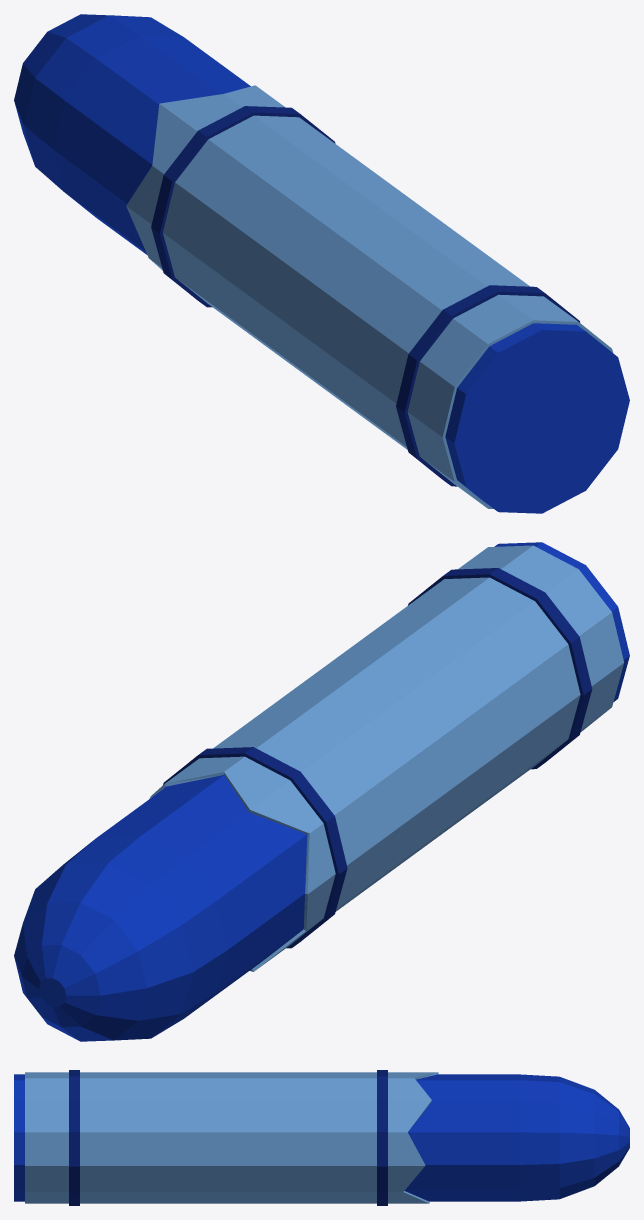
The model's file is crayon.fbx.
3 renders of one model, top to bottom at view 1: azimuth 30°, elevation 25°; view 2: azimuth 150°, elevation 25°; view 3: azimuth 270°, elevation 25°, orthographic. The views are drawn at different scales.
Visible parts, largest first — view 1: crayon; view 2: crayon; view 3: crayon.
Part boxes in pixels (box(x1,y1,x2,y2)): crayon: box(14, 14, 629, 513); crayon: box(14, 542, 629, 1041); crayon: box(14, 1070, 629, 1205).
Bounding box in the file's own units: 0.62 × 0.62 × 2.8.
